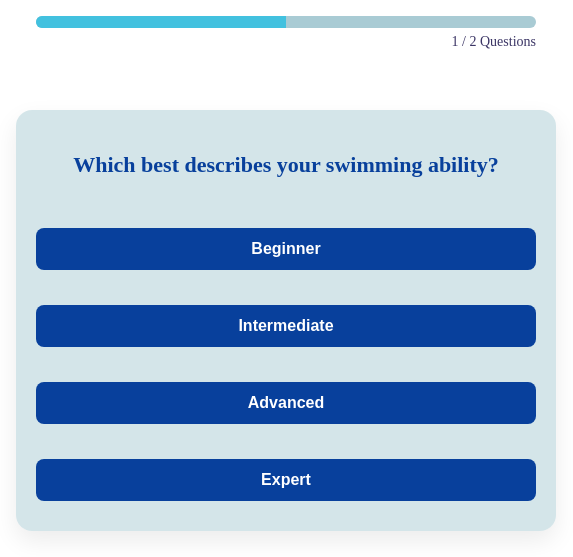
advances to next question on answer
The image size is (573, 557).
Click the button "Beginner". click: click(286, 248)
box: [36, 228, 536, 270]
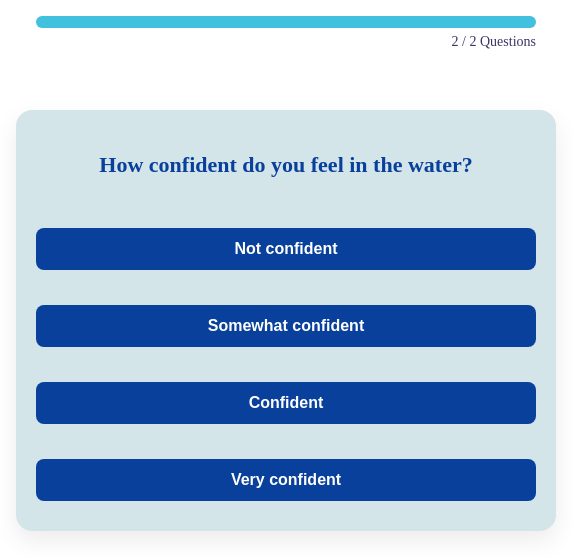
expect the heading "How confident do you feel in the water?" is shown: met, box [99, 152, 473, 176]
